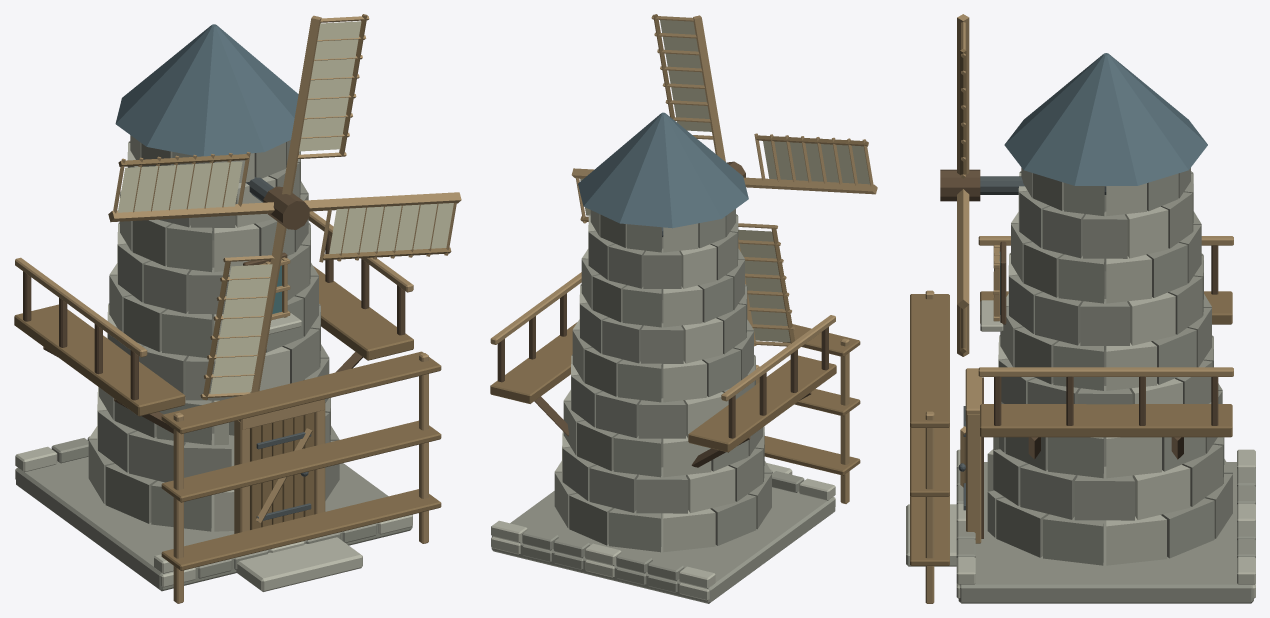
File: windmill.glb
The picture shows the model from 3 angles, left to right: view 1: azimuth 30°, elevation 25°; view 2: azimuth 150°, elevation 25°; view 3: azimuth 270°, elevation 25°; orthographic projection. The views are drawn at different scales.
Visible parts, largest first — view 1: WindRotor_mesh, Scaffold_mesh, Cap_mesh, Foundation_mesh, Gallery_mesh, TowerCourse.006_mesh, TowerCourse.004_mesh, Gallery.001_mesh, TowerCourse_mesh, TowerCourse.005_mesh, TowerCourse.001_mesh, DoorLeaf_mesh (+7 smaller); view 2: WindRotor_mesh, Foundation_mesh, Cap_mesh, TowerCourse_mesh, TowerCourse.001_mesh, Gallery_mesh, TowerCourse.004_mesh, TowerCourse.005_mesh, TowerCourse.006_mesh, TowerCourse.002_mesh, TowerCourse.007_mesh, TowerCourse.003_mesh (+3 smaller); view 3: Foundation_mesh, Cap_mesh, Gallery.001_mesh, TowerCourse_mesh, Scaffold_mesh, TowerCourse.001_mesh, TowerCourse.005_mesh, TowerCourse.006_mesh, TowerCourse.007_mesh, TowerCourse.004_mesh, TowerCourse.002_mesh, WindRotor_mesh (+8 smaller).
Part boxes in pixels (x1,y1,x2,y2): WindRotor_mesh: (108,14,461,400); Scaffold_mesh: (161,351,441,603); Cap_mesh: (115,24,298,156); Foundation_mesh: (15,433,412,591); Gallery_mesh: (14,257,185,433); TowerCourse.006_mesh: (120,181,308,272); TowerCourse.004_mesh: (109,240,318,357); Gallery.001_mesh: (308,211,413,372); TowerCourse_mesh: (88,400,339,531); TowerCourse.005_mesh: (117,222,310,314); TowerCourse.001_mesh: (97,387,330,482); DoorLeaf_mesh: (250,413,314,529); WindRotor_mesh: (571,14,877,346); Foundation_mesh: (491,467,835,603); Cap_mesh: (578,112,748,228); TowerCourse_mesh: (554,438,771,552); TowerCourse.001_mesh: (562,426,764,513); Gallery_mesh: (688,315,836,467); TowerCourse.004_mesh: (572,300,753,402); TowerCourse.005_mesh: (579,284,747,363); TowerCourse.006_mesh: (581,237,744,327); TowerCourse.002_mesh: (563,367,762,477); TowerCourse.007_mesh: (588,214,738,288); TowerCourse.003_mesh: (571,354,755,438); Foundation_mesh: (956,449,1255,603); Cap_mesh: (1004,53,1207,185); Gallery.001_mesh: (978,367,1233,459); TowerCourse_mesh: (987,437,1232,565); Scaffold_mesh: (910,290,949,603); TowerCourse.001_mesh: (993,437,1224,520); TowerCourse.005_mesh: (1008,253,1203,345); TowerCourse.006_mesh: (1011,195,1201,303); TowerCourse.007_mesh: (1018,171,1193,258); TowerCourse.004_mesh: (1000,271,1211,390); TowerCourse.002_mesh: (999,350,1222,478); WindRotor_mesh: (940,14,980,356).
Bounding box in the file's own units: 4.27 × 6.27 × 3.67.
